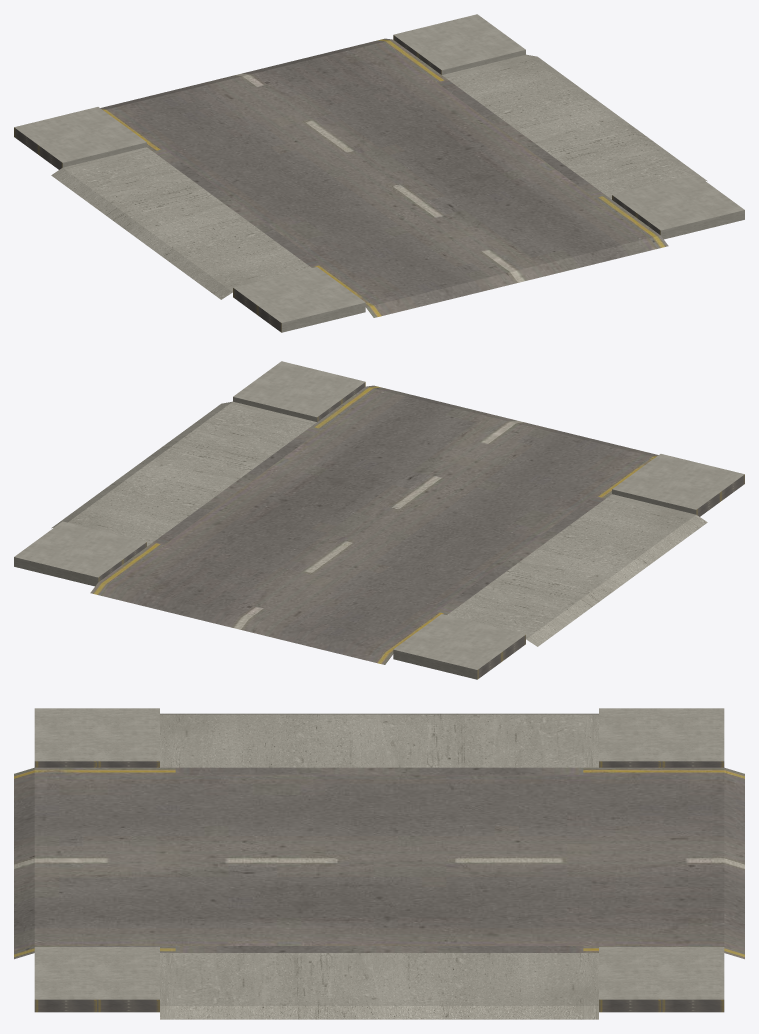
The model's file is Quad_road_2.fbx.
The picture shows the model from 3 angles, top to bottom: view 1: azimuth 30°, elevation 25°; view 2: azimuth 150°, elevation 25°; view 3: azimuth 270°, elevation 25°; orthographic projection. The views are drawn at different scales.
Visible parts, largest first — view 1: Quad_Road; view 2: Quad_Road; view 3: Quad_Road.
Part boxes in pixels (x1,y1,x2,y2): Quad_Road: (14, 14, 744, 332); Quad_Road: (14, 361, 744, 679); Quad_Road: (14, 708, 744, 1019).
Bounding box in the file's own units: 21 × 0.4 × 21.2.
